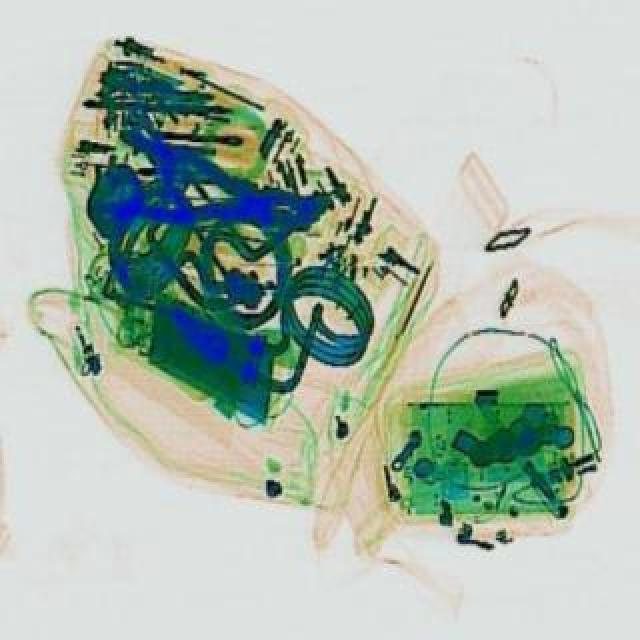wrench: (100, 132, 330, 268)
